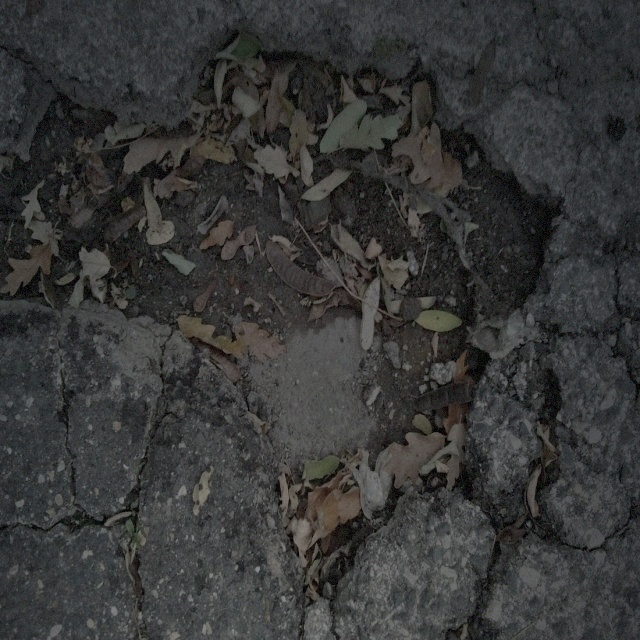pothole: (8, 24, 563, 604)
